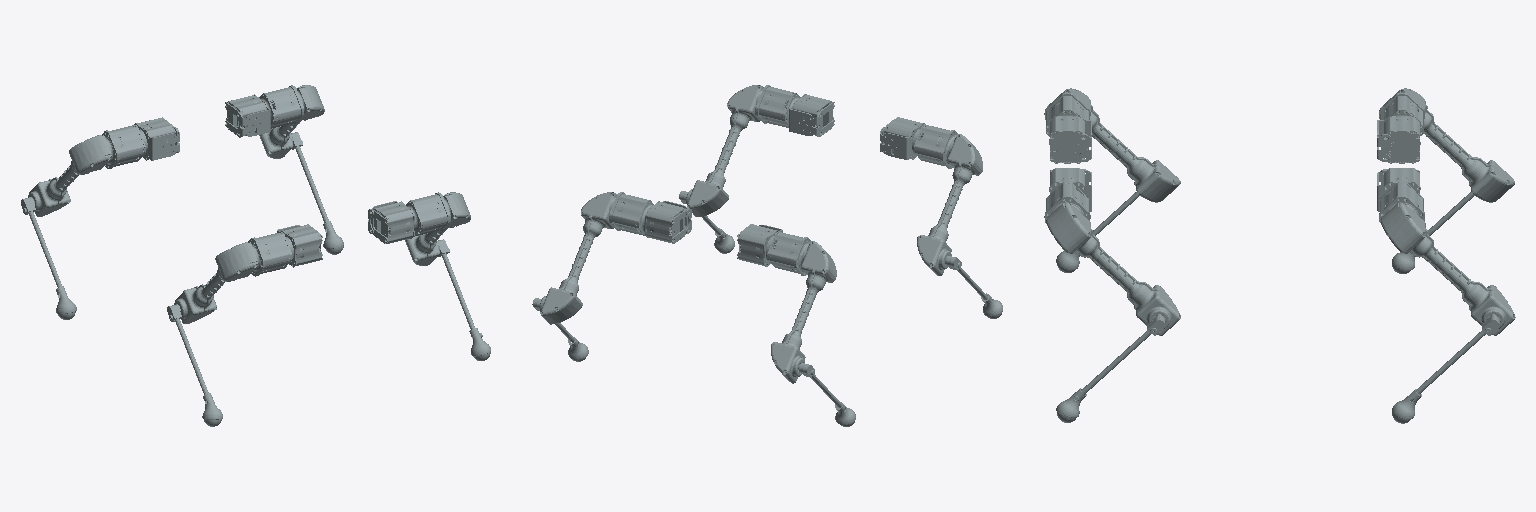
The robot description file, URDF, robot "bacak_test_description":
<?xml version="1.0" encoding="utf-8"?>
<!-- This URDF was automatically created by SolidWorks to URDF Exporter! Originally created by Stephen Brawner (brawner@gmail.com) 
     Commit Version: 1.6.0-4-g7f85cfe  Build Version: 1.6.7995.38578
     For more information, please see http://wiki.ros.org/sw_urdf_exporter -->
<robot
  name="bacak_test_description">
  <link
    name="base_link">
    <inertial>
      <origin
        xyz="0.0030677 -0.00094114 0.0054537"
        rpy="0 0 0" />
      <mass
        value="8.8168" />
      <inertia
        ixx="0.075252"
        ixy="5.8125E-07"
        ixz="1.0566E-13"
        iyy="0.051926"
        iyz="-3.7246E-14"
        izz="0.10636" />
    </inertial>
    <visual>
      <origin
        xyz="0 0 0"
        rpy="0 0 0" />
      <geometry>
        <mesh
          filename="package://one_leg_pinocchio_control/meshes/base_link.STL" />
      </geometry>
      <material
        name="">
        <color
          rgba="0.61176 0.65882 0.67059 1" />
      </material>
    </visual>
    <collision>
      <origin
        xyz="0 0 0"
        rpy="0 0 0" />
      <geometry>
        <mesh
          filename="package://one_leg_pinocchio_control/meshes/base_link.STL" />
      </geometry>
    </collision>
  </link>
  <link
    name="fl_hipx">
    <inertial>
      <origin
        xyz="0.01115 -0.031338 0.00024992"
        rpy="0 0 0" />
      <mass
        value="0.803338" />
      <inertia
        ixx="2.5711E-05"
        ixy="1.1206E-06"
        ixz="1.4049E-07"
        iyy="2.5194E-05"
        iyz="2.1657E-07"
        izz="2.5937E-05" />
    </inertial>
    <visual>
      <origin
        xyz="0 0 0"
        rpy="0 0 0" />
      <geometry>
        <mesh
          filename="package://one_leg_pinocchio_control/meshes/fl_hipx.STL" />
      </geometry>
      <material
        name="">
        <color
          rgba="0.61176 0.65882 0.67059 1" />
      </material>
    </visual>
    <collision>
      <origin
        xyz="0 0 0"
        rpy="0 0 0" />
      <geometry>
        <mesh
          filename="package://one_leg_pinocchio_control/meshes/fl_hipx.STL" />
      </geometry>
    </collision>
  </link>
  <joint
    name="fl_hipx_joint"
    type="continuous">
    <origin
      xyz="0.078068 -0.19814 0.0054469"
      rpy="0 0 0" />
    <parent
      link="base_link" />
    <child
      link="fl_hipx" />
    <axis
      xyz="0 1 0" />
    <limit
      lower="-3.14"
      upper="3.14"
      effort="10"
      velocity="10" />
  </joint>
  <link
    name="fl_hipy">
    <inertial>
      <origin
        xyz="0.062567 0.035746 -0.035573"
        rpy="0 0 0" />
      <mass
        value="0.9008" />
      <inertia
        ixx="0.00056386"
        ixy="-3.6237E-05"
        ixz="3.6466E-05"
        iyy="0.00031716"
        iyz="0.00026499"
        izz="0.00031771" />
    </inertial>
    <visual>
      <origin
        xyz="0 0 0"
        rpy="0 0 0" />
      <geometry>
        <mesh
          filename="package://one_leg_pinocchio_control/meshes/fl_hipy.STL" />
      </geometry>
      <material
        name="">
        <color
          rgba="0.61176 0.65882 0.67059 1" />
      </material>
    </visual>
    <collision>
      <origin
        xyz="0 0 0"
        rpy="0 0 0" />
      <geometry>
        <mesh
          filename="package://one_leg_pinocchio_control/meshes/fl_hipy.STL" />
      </geometry>
    </collision>
  </link>
  <joint
    name="fl_hipy_joint"
    type="continuous">
    <origin
      xyz="0.0385 -0.034875 0"
      rpy="0 0 0" />
    <parent
      link="fl_hipx" />
    <child
      link="fl_hipy" />
    <axis
      xyz="1 0 0" />
    <limit
      lower="-3.14"
      upper="3.14"
      effort="10"
      velocity="10" />
  </joint>
  <link
    name="fl_knee">
    <inertial>
      <origin
        xyz="0.011306 -0.093833 -0.098498"
        rpy="0 0 0" />
      <mass
        value="0.0800068" />
      <inertia
        ixx="1.0862E-05"
        ixy="5.1026E-08"
        ixz="3.4165E-08"
        iyy="6.8965E-06"
        iyz="-4.33E-06"
        izz="7.0009E-06" />
    </inertial>
    <visual>
      <origin
        xyz="0 0 0"
        rpy="0 0 0" />
      <geometry>
        <mesh
          filename="package://one_leg_pinocchio_control/meshes/fl_knee.STL" />
      </geometry>
      <material
        name="">
        <color
          rgba="0.61176 0.65882 0.67059 1" />
      </material>
    </visual>
    <collision>
      <origin
        xyz="0 0 0"
        rpy="0 0 0" />
      <geometry>
        <mesh
          filename="package://one_leg_pinocchio_control/meshes/fl_knee.STL" />
      </geometry>
    </collision>
  </link>
  <joint
    name="fl_knee_joint"
    type="continuous">
    <origin
      xyz="0.1195 0.12718 -0.12718"
      rpy="0 0 0" />
    <parent
      link="fl_hipy" />
    <child
      link="fl_knee" />
    <axis
      xyz="-1 0 0" />
    <limit
      lower="-3.14"
      upper="3.14"
      effort="10"
      velocity="10" />
  </joint>
  <link
    name="fr_hipx">
    <inertial>
      <origin
        xyz="-0.01115 -0.031338 -0.0002499"
        rpy="0 0 0" />
      <mass
        value="0.053338" />
      <inertia
        ixx="2.5711E-05"
        ixy="-1.1206E-06"
        ixz="1.4049E-07"
        iyy="2.5194E-05"
        iyz="-2.1657E-07"
        izz="2.5937E-05" />
    </inertial>
    <visual>
      <origin
        xyz="0 0 0"
        rpy="0 0 0" />
      <geometry>
        <mesh
          filename="package://one_leg_pinocchio_control/meshes/fr_hipx.STL" />
      </geometry>
      <material
        name="">
        <color
          rgba="0.61176 0.65882 0.67059 1" />
      </material>
    </visual>
    <collision>
      <origin
        xyz="0 0 0"
        rpy="0 0 0" />
      <geometry>
        <mesh
          filename="package://one_leg_pinocchio_control/meshes/fr_hipx.STL" />
      </geometry>
    </collision>
  </link>
  <joint
    name="fr_hipx_joint"
    type="continuous">
    <origin
      xyz="-0.071932 -0.19814 0.0054469"
      rpy="0 0 0" />
    <parent
      link="base_link" />
    <child
      link="fr_hipx" />
    <axis
      xyz="0 -1 0" />
    <limit
      lower="-3.14"
      upper="3.14"
      effort="10"
      velocity="10" />
  </joint>
  <link
    name="fr_hipy">
    <inertial>
      <origin
        xyz="-0.064942 0.040459 -0.040347"
        rpy="0 0 0" />
      <mass
        value="0.15804" />
      <inertia
        ixx="0.00056453"
        ixy="3.6016E-05"
        ixz="-3.6276E-05"
        iyy="0.00031833"
        iyz="0.00026499"
        izz="0.00031777" />
    </inertial>
    <visual>
      <origin
        xyz="0 0 0"
        rpy="0 0 0" />
      <geometry>
        <mesh
          filename="package://one_leg_pinocchio_control/meshes/fr_hipy.STL" />
      </geometry>
      <material
        name="">
        <color
          rgba="0.61176 0.65882 0.67059 1" />
      </material>
    </visual>
    <collision>
      <origin
        xyz="0 0 0"
        rpy="0 0 0" />
      <geometry>
        <mesh
          filename="package://one_leg_pinocchio_control/meshes/fr_hipy.STL" />
      </geometry>
    </collision>
  </link>
  <joint
    name="fr_hipy_joint"
    type="continuous">
    <origin
      xyz="-0.0385 -0.034875 0"
      rpy="0 0 0" />
    <parent
      link="fr_hipx" />
    <child
      link="fr_hipy" />
    <axis
      xyz="-1 0 0" />
    <limit
      lower="-3.14"
      upper="3.14"
      effort="10"
      velocity="10" />
  </joint>
  <link
    name="fr_knee">
    <inertial>
      <origin
        xyz="-0.011273 -0.094745 -0.099494"
        rpy="0 0 0" />
      <mass
        value="0.029617" />
      <inertia
        ixx="1.0853E-05"
        ixy="-5.2711E-08"
        ixz="-3.6116E-08"
        iyy="6.888E-06"
        iyz="-4.3298E-06"
        izz="6.9939E-06" />
    </inertial>
    <visual>
      <origin
        xyz="0 0 0"
        rpy="0 0 0" />
      <geometry>
        <mesh
          filename="package://one_leg_pinocchio_control/meshes/fr_knee.STL" />
      </geometry>
      <material
        name="">
        <color
          rgba="0.61176 0.65882 0.67059 1" />
      </material>
    </visual>
    <collision>
      <origin
        xyz="0 0 0"
        rpy="0 0 0" />
      <geometry>
        <mesh
          filename="package://one_leg_pinocchio_control/meshes/fr_knee.STL" />
      </geometry>
    </collision>
  </link>
  <joint
    name="fr_knee_joint"
    type="continuous">
    <origin
      xyz="-0.1195 0.12718 -0.12718"
      rpy="0 0 0" />
    <parent
      link="fr_hipy" />
    <child
      link="fr_knee" />
    <axis
      xyz="1 0 0" />
    <limit
      lower="-3.14"
      upper="3.14"
      effort="10"
      velocity="10" />
  </joint>
  <link
    name="hl_hipx">
    <inertial>
      <origin
        xyz="0.01115 0.031338 -0.0002499"
        rpy="0 0 0" />
      <mass
        value="0.053338" />
      <inertia
        ixx="2.5711E-05"
        ixy="-1.1206E-06"
        ixz="-1.4049E-07"
        iyy="2.5194E-05"
        iyz="2.1657E-07"
        izz="2.5937E-05" />
    </inertial>
    <visual>
      <origin
        xyz="0 0 0"
        rpy="0 0 0" />
      <geometry>
        <mesh
          filename="package://one_leg_pinocchio_control/meshes/hl_hipx.STL" />
      </geometry>
      <material
        name="">
        <color
          rgba="0.61176 0.65882 0.67059 1" />
      </material>
    </visual>
    <collision>
      <origin
        xyz="0 0 0"
        rpy="0 0 0" />
      <geometry>
        <mesh
          filename="package://one_leg_pinocchio_control/meshes/hl_hipx.STL" />
      </geometry>
    </collision>
  </link>
  <joint
    name="hl_hipx_joint"
    type="continuous">
    <origin
      xyz="0.078068 0.19626 0.0054469"
      rpy="0 0 0" />
    <parent
      link="base_link" />
    <child
      link="hl_hipx" />
    <axis
      xyz="0 1 0" />
    <limit
      lower="-3.14"
      upper="3.14"
      effort="10"
      velocity="10" />
  </joint>
  <link
    name="hl_hipy">
    <inertial>
      <origin
        xyz="0.062567 0.035606 -0.035704"
        rpy="0 0 0" />
      <mass
        value="0.15008" />
      <inertia
        ixx="0.00056386"
        ixy="-3.6478E-05"
        ixz="3.626E-05"
        iyy="0.00031758"
        iyz="0.00026493"
        izz="0.00031729" />
    </inertial>
    <visual>
      <origin
        xyz="0 0 0"
        rpy="0 0 0" />
      <geometry>
        <mesh
          filename="package://one_leg_pinocchio_control/meshes/hl_hipy.STL" />
      </geometry>
      <material
        name="">
        <color
          rgba="0.61176 0.65882 0.67059 1" />
      </material>
    </visual>
    <collision>
      <origin
        xyz="0 0 0"
        rpy="0 0 0" />
      <geometry>
        <mesh
          filename="package://one_leg_pinocchio_control/meshes/hl_hipy.STL" />
      </geometry>
    </collision>
  </link>
  <joint
    name="hl_hipy_joint"
    type="continuous">
    <origin
      xyz="0.0385 0.034875 0"
      rpy="0 0 0" />
    <parent
      link="hl_hipx" />
    <child
      link="hl_hipy" />
    <axis
      xyz="1 0 0" />
    <limit
      lower="-3.14"
      upper="3.14"
      effort="10"
      velocity="10" />
  </joint>
  <link
    name="hl_knee">
    <inertial>
      <origin
        xyz="0.010975 -0.09415 -0.10038"
        rpy="0 0 0" />
      <mass
        value="0.029617" />
      <inertia
        ixx="1.0849E-05"
        ixy="5.3518E-08"
        ixz="5.3232E-08"
        iyy="6.8879E-06"
        iyz="-4.3315E-06"
        izz="6.9974E-06" />
    </inertial>
    <visual>
      <origin
        xyz="0 0 0"
        rpy="0 0 0" />
      <geometry>
        <mesh
          filename="package://one_leg_pinocchio_control/meshes/hl_knee.STL" />
      </geometry>
      <material
        name="">
        <color
          rgba="0.61176 0.65882 0.67059 1" />
      </material>
    </visual>
    <collision>
      <origin
        xyz="0 0 0"
        rpy="0 0 0" />
      <geometry>
        <mesh
          filename="package://one_leg_pinocchio_control/meshes/hl_knee.STL" />
      </geometry>
    </collision>
  </link>
  <joint
    name="hl_knee_joint"
    type="continuous">
    <origin
      xyz="0.1195 0.12718 -0.12718"
      rpy="0 0 0" />
    <parent
      link="hl_hipy" />
    <child
      link="hl_knee" />
    <axis
      xyz="-1 0 0" />
    <limit
      lower="-3.14"
      upper="3.14"
      effort="10"
      velocity="10" />
  </joint>
  <link
    name="hr_hipx">
    <inertial>
      <origin
        xyz="-0.01115 0.031338 0.00024992"
        rpy="0 0 0" />
      <mass
        value="0.053338" />
      <inertia
        ixx="2.5711E-05"
        ixy="1.1206E-06"
        ixz="-1.4049E-07"
        iyy="2.5194E-05"
        iyz="-2.1657E-07"
        izz="2.5937E-05" />
    </inertial>
    <visual>
      <origin
        xyz="0 0 0"
        rpy="0 0 0" />
      <geometry>
        <mesh
          filename="package://one_leg_pinocchio_control/meshes/hr_hipx.STL" />
      </geometry>
      <material
        name="">
        <color
          rgba="0.61176 0.65882 0.67059 1" />
      </material>
    </visual>
    <collision>
      <origin
        xyz="0 0 0"
        rpy="0 0 0" />
      <geometry>
        <mesh
          filename="package://one_leg_pinocchio_control/meshes/hr_hipx.STL" />
      </geometry>
    </collision>
  </link>
  <joint
    name="hr_hipx_joint"
    type="continuous">
    <origin
      xyz="-0.071932 0.19626 0.0054469"
      rpy="0 0 0" />
    <parent
      link="base_link" />
    <child
      link="hr_hipx" />
    <axis
      xyz="0 1 0" />
    <limit
      lower="-3.14"
      upper="3.14"
      effort="10"
      velocity="10" />
  </joint>
  <link
    name="hr_hipy">
    <inertial>
      <origin
        xyz="-0.062567 0.035578 -0.035742"
        rpy="0 0 0" />
      <mass
        value="0.15008" />
      <inertia
        ixx="0.00056386"
        ixy="3.6462E-05"
        ixz="-3.624E-05"
        iyy="0.00031772"
        iyz="0.00026499"
        izz="0.00031715" />
    </inertial>
    <visual>
      <origin
        xyz="0 0 0"
        rpy="0 0 0" />
      <geometry>
        <mesh
          filename="package://one_leg_pinocchio_control/meshes/hr_hipy.STL" />
      </geometry>
      <material
        name="">
        <color
          rgba="0.61176 0.65882 0.67059 1" />
      </material>
    </visual>
    <collision>
      <origin
        xyz="0 0 0"
        rpy="0 0 0" />
      <geometry>
        <mesh
          filename="package://one_leg_pinocchio_control/meshes/hr_hipy.STL" />
      </geometry>
    </collision>
  </link>
  <joint
    name="hr_hipy_joint"
    type="continuous">
    <origin
      xyz="-0.0385 0.034875 0"
      rpy="0 0 0" />
    <parent
      link="hr_hipx" />
    <child
      link="hr_hipy" />
    <axis
      xyz="-1 0 0" />
    <limit
      lower="-3.14"
      upper="3.14"
      effort="10"
      velocity="10" />
  </joint>
  <link
    name="hr_knee">
    <inertial>
      <origin
        xyz="-0.010968 -0.09415 -0.10038"
        rpy="0 0 0" />
      <mass
        value="0.029617" />
      <inertia
        ixx="1.0849E-05"
        ixy="-5.513E-08"
        ixz="-5.5416E-08"
        iyy="6.8879E-06"
        iyz="-4.3315E-06"
        izz="6.9974E-06" />
    </inertial>
    <visual>
      <origin
        xyz="0 0 0"
        rpy="0 0 0" />
      <geometry>
        <mesh
          filename="package://one_leg_pinocchio_control/meshes/hr_knee.STL" />
      </geometry>
      <material
        name="">
        <color
          rgba="0.61176 0.65882 0.67059 1" />
      </material>
    </visual>
    <collision>
      <origin
        xyz="0 0 0"
        rpy="0 0 0" />
      <geometry>
        <mesh
          filename="package://one_leg_pinocchio_control/meshes/hr_knee.STL" />
      </geometry>
    </collision>
  </link>
  <joint
    name="hr_knee_joint"
    type="continuous">
    <origin
      xyz="-0.1195 0.12718 -0.12718"
      rpy="0 0 0" />
    <parent
      link="hr_hipy" />
    <child
      link="hr_knee" />
    <axis
      xyz="1 0 0" />
    <limit
      lower="-3.14"
      upper="3.14"
      effort="10"
      velocity="10" />
  </joint>
</robot>

--- Facts derived from the render (not from the file) ---
Views: 3 orthographic renders of the robot side by side, from view 1: azimuth 30°, elevation 25°; view 2: azimuth 150°, elevation 25°; view 3: azimuth 270°, elevation 25°.
Model bacak_test_description with 13 links and 12 joints (12 continuous), rooted at base_link, posed every joint at zero.
Links seen in each view (by area): view 1: fr_hipy, hr_hipy, fl_hipy, hl_hipy, fl_hipx, hl_hipx, hr_hipx, fr_hipx, hr_knee, fr_knee, fl_knee, hl_knee; view 2: fr_hipy, hr_hipy, hl_hipy, fl_hipy, hl_hipx, fl_hipx, fr_hipx, hr_hipx, fr_knee, hr_knee, hl_knee, fl_knee; view 3: hl_hipy, fl_hipy, hr_hipy, fr_hipy, hr_hipx, fr_hipx, fl_knee, hl_knee, hl_hipx, fl_hipx, hr_knee, fr_knee.
Boxes of the visible links, x1,y1,x2,y2 form: fr_hipy: (174, 232, 293, 323); hr_hipy: (28, 125, 147, 216); fl_hipy: (405, 192, 470, 265); hl_hipy: (259, 85, 324, 158); fl_hipx: (368, 201, 414, 243); hl_hipx: (225, 94, 270, 137); hr_hipx: (134, 117, 179, 160); fr_hipx: (277, 224, 322, 267); hr_knee: (21, 197, 76, 319); fr_knee: (167, 304, 222, 426); fl_knee: (438, 239, 490, 360); hl_knee: (291, 132, 343, 254); fr_hipy: (912, 124, 982, 275); hr_hipy: (766, 231, 836, 383); hl_hipy: (540, 192, 653, 324); fl_hipy: (686, 85, 800, 216); hl_hipx: (645, 201, 691, 243); fl_hipx: (789, 94, 834, 136); fr_hipx: (880, 117, 924, 159); hr_hipx: (737, 224, 782, 266); fr_knee: (945, 256, 1002, 318); hr_knee: (798, 363, 855, 426); hl_knee: (532, 298, 588, 361); fl_knee: (679, 191, 734, 253); hl_hipy: (1379, 182, 1515, 335); fl_hipy: (1044, 182, 1180, 335); hr_hipy: (1379, 88, 1514, 202); fr_hipy: (1044, 88, 1180, 202); hr_hipx: (1377, 116, 1420, 163); fr_hipx: (1049, 116, 1091, 163); fl_knee: (1056, 314, 1164, 422); hl_knee: (1392, 314, 1499, 423); hl_hipx: (1377, 168, 1420, 211); fl_hipx: (1049, 168, 1091, 211); hr_knee: (1392, 192, 1473, 273); fr_knee: (1056, 192, 1139, 272).
Size in the robot's own frame: 0.5243 by 0.6536 by 0.3108 metres.
12 mesh visuals loaded from 13 distinct referenced files (12 binary STL); not drawn: 1 (reference not matched to a file when rendering).
